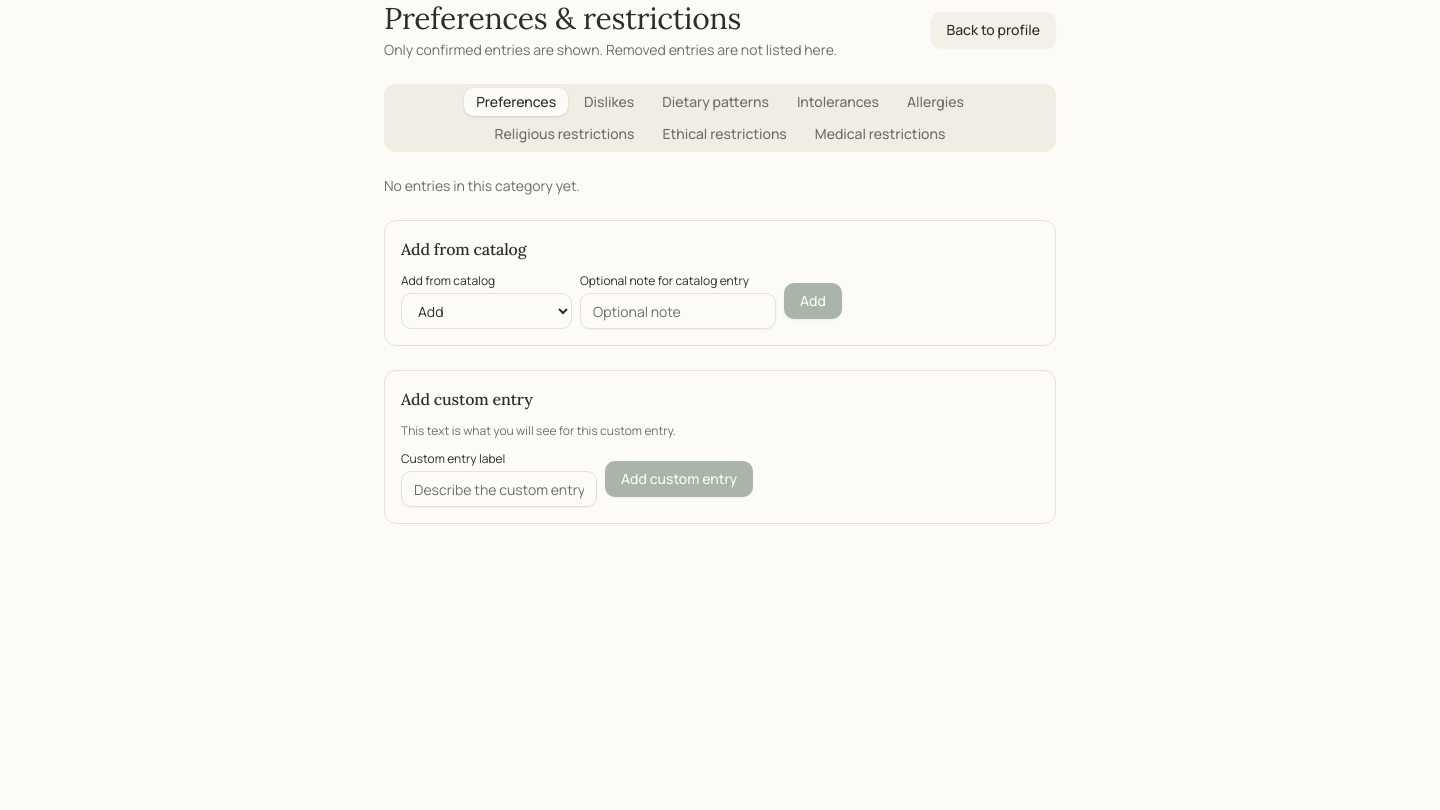
ProfilePreferencesPage › uses a Radix alert dialog for the sensitive confirmation (aria-modal, Escape closes)
Expected: the element with test id "profile-preferences" is shown, [384, 0, 1056, 524]
Click the tab with test id "profile-preferences-tab-Allergy": (935, 102) [895, 88, 976, 116]
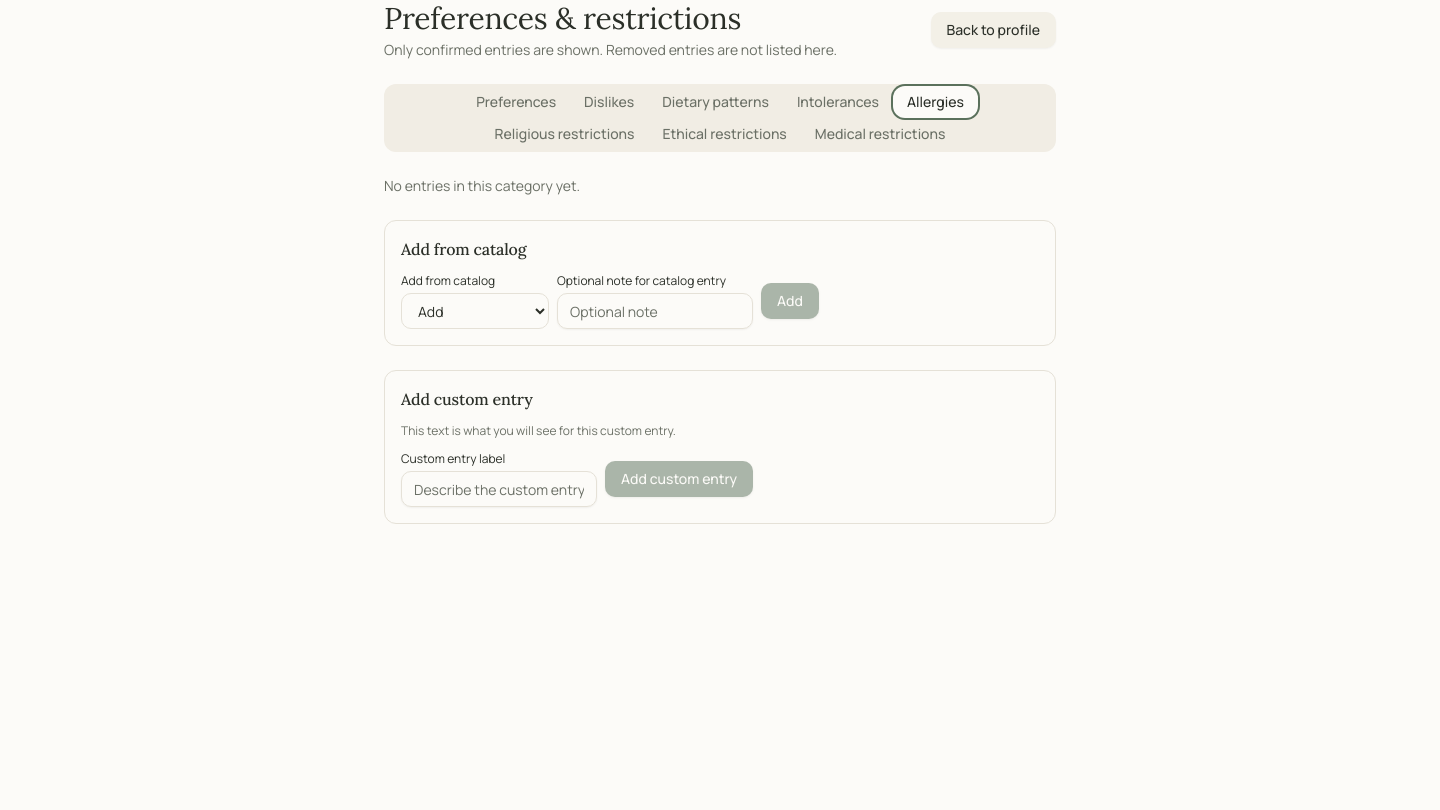
Select "Peanut allergy" in the dropdown with test id "profile-preferences-catalog-select": (475, 311) [401, 293, 549, 329]
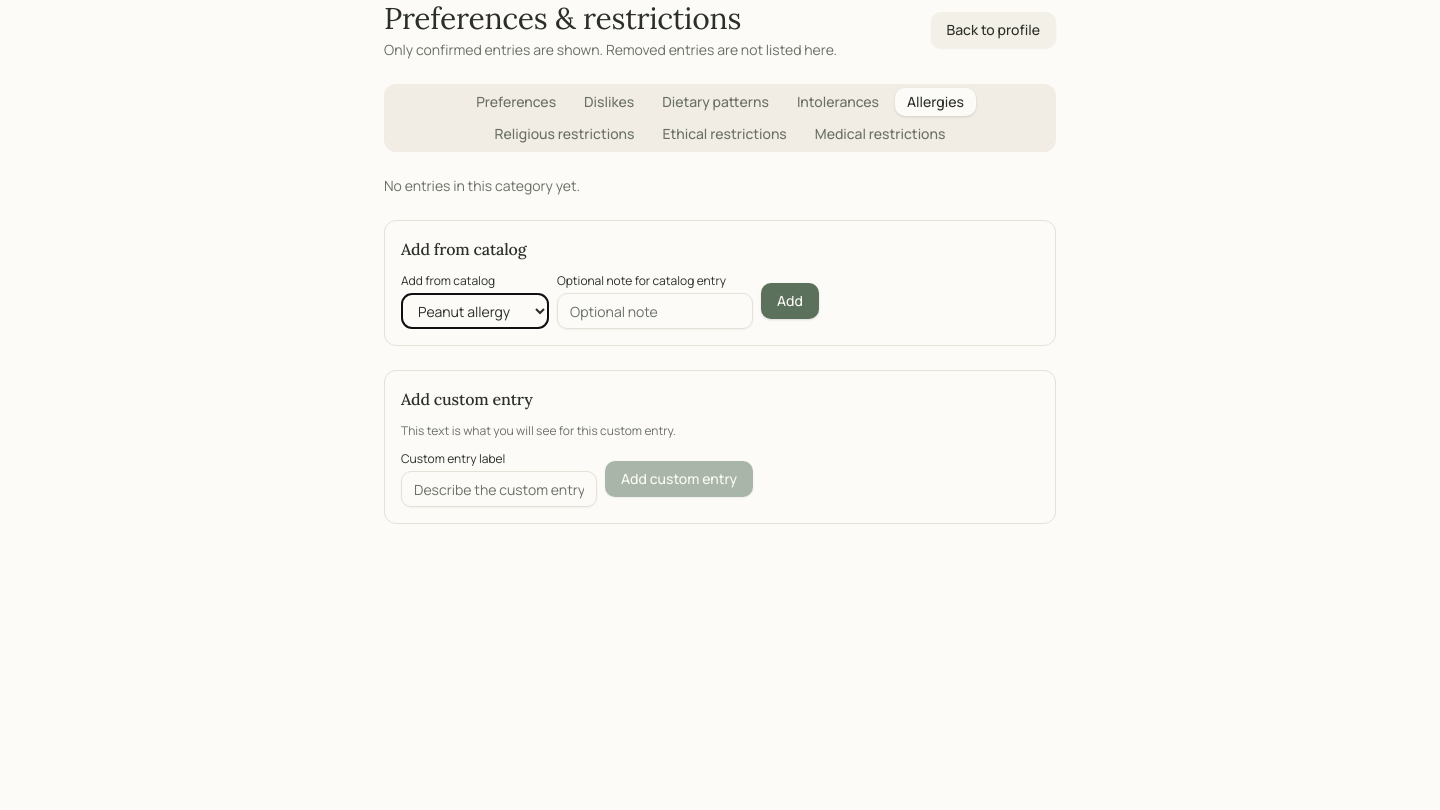
Click the button with test id "profile-preferences-catalog-submit": (790, 301) [761, 283, 819, 319]
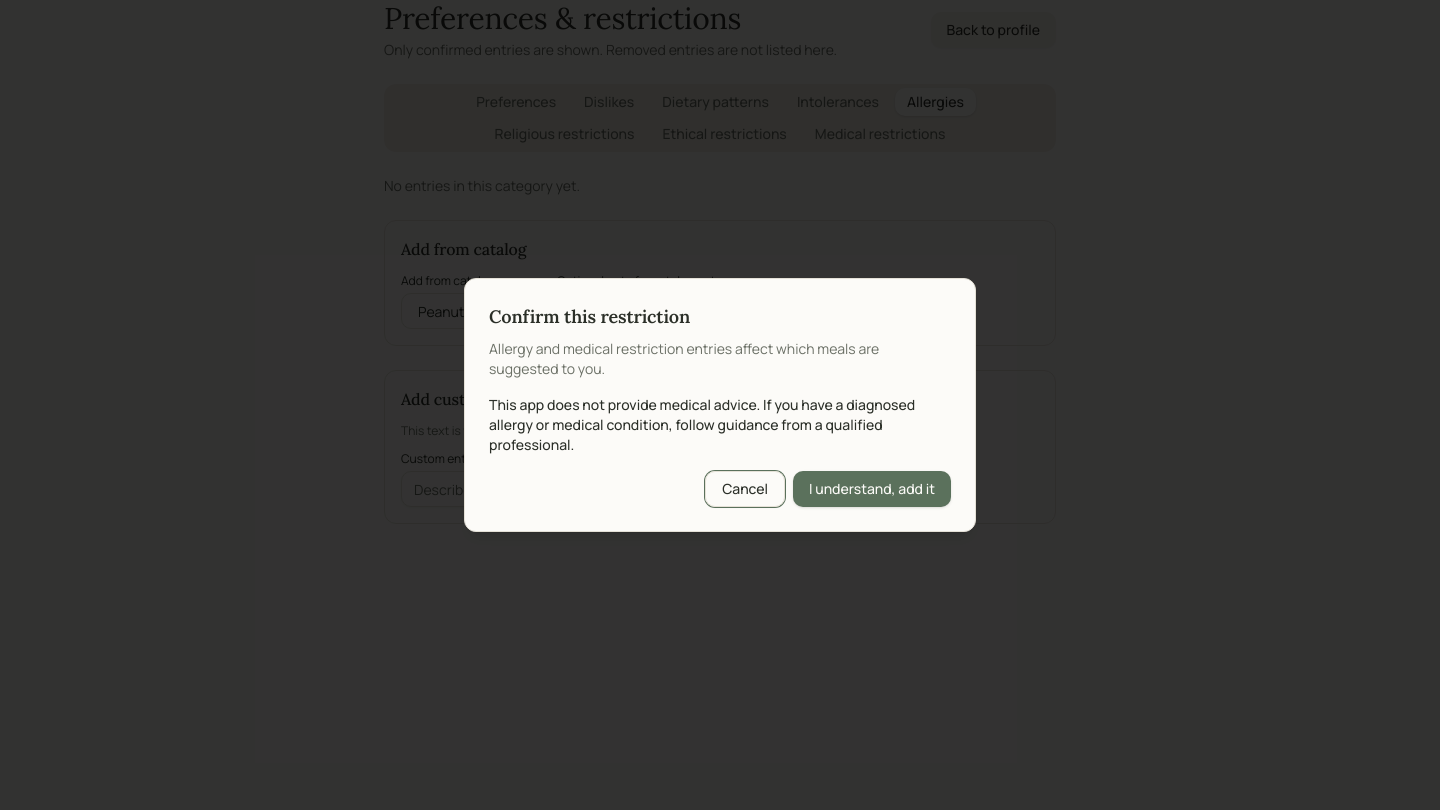
Press Escape
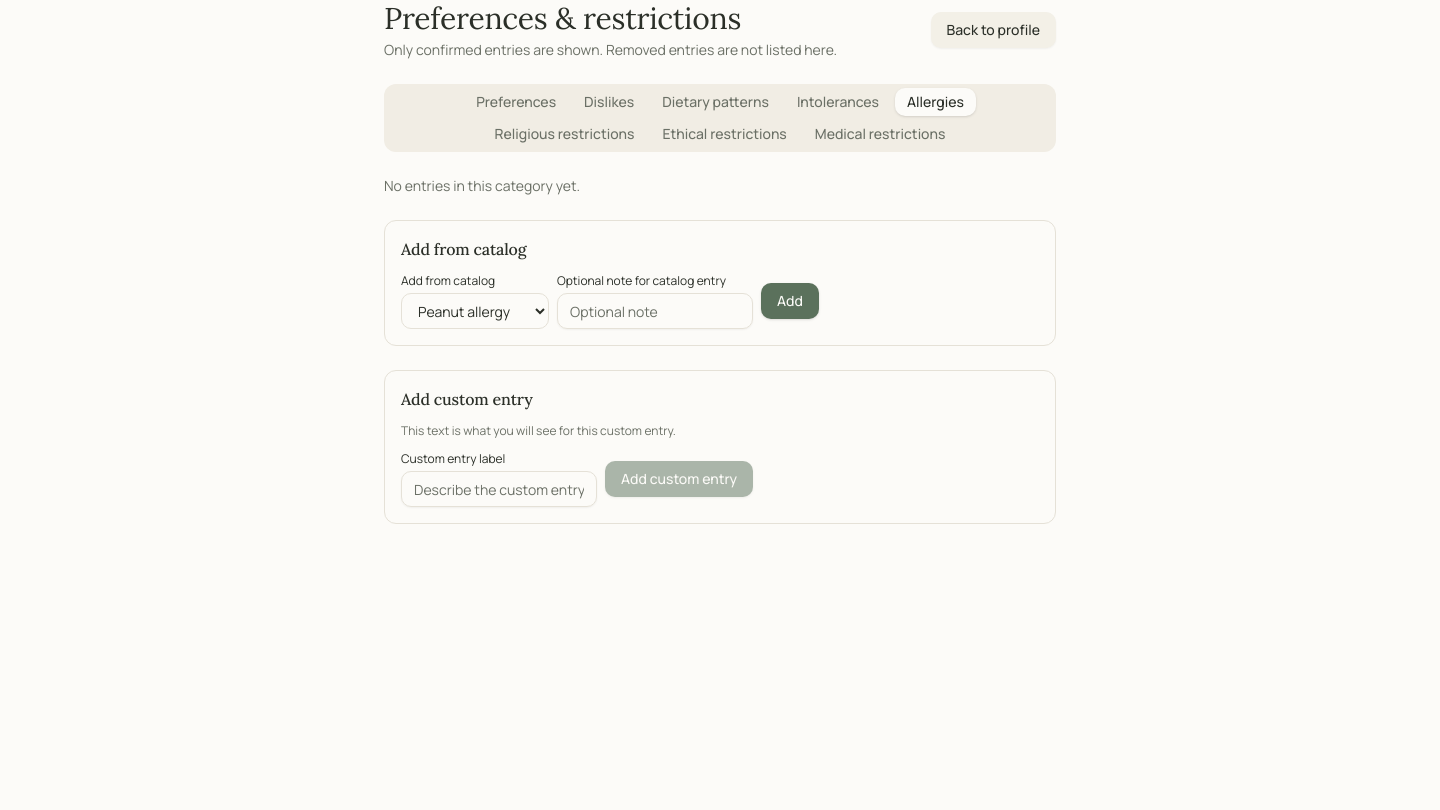
Expected: the dialog with test id "profile-preferences-sensitive-confirm" is gone
